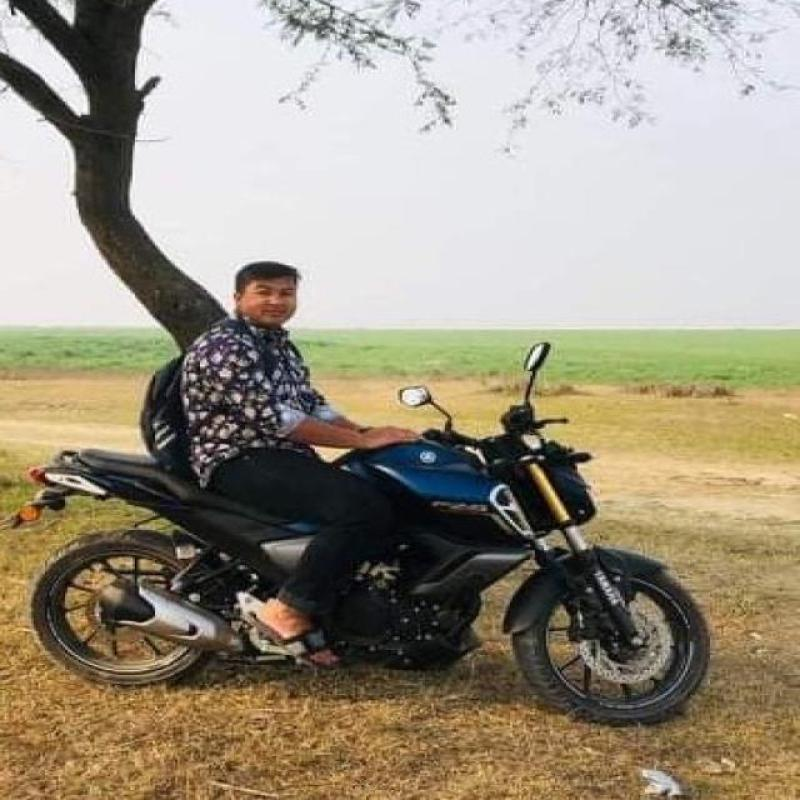nohelmet: (215, 254, 326, 330)
